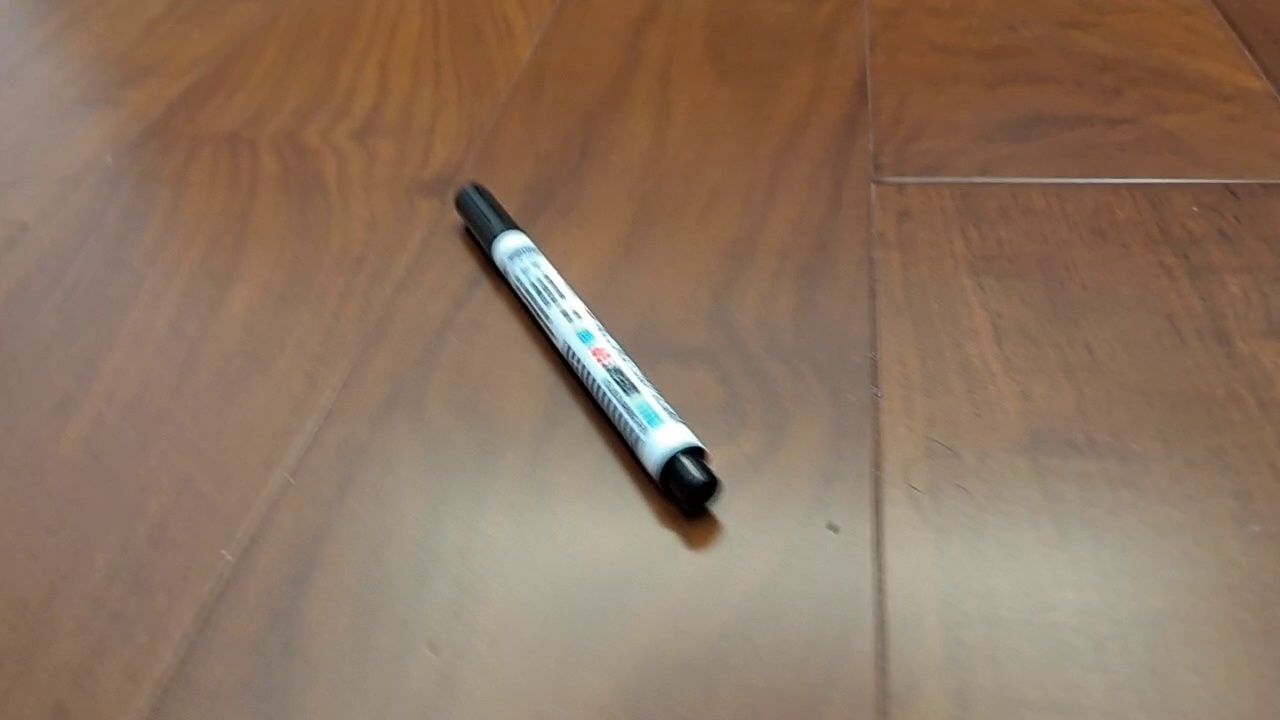pen: (453, 180, 724, 515)
